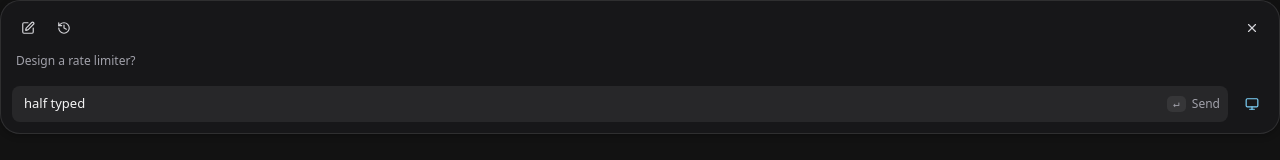
it: AnswerPanel › New chat ends the thread but keeps Ask open, empty, and without a pick
Click the button named "New chat". click: (28, 28)
box: [12,12,44,44]
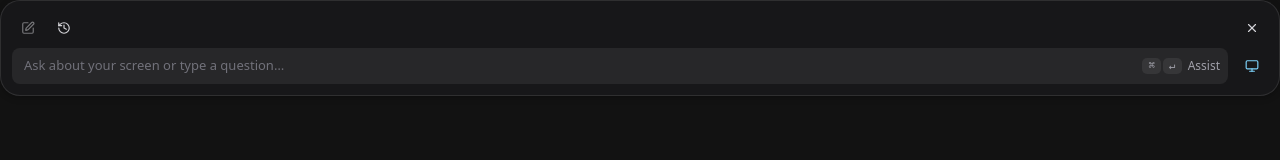
Check: the field with placeholder "Ask about your screen or type a question…" is empty, box [12,48,1228,84]
Check: the text "Design a rate limiter?" is gone
